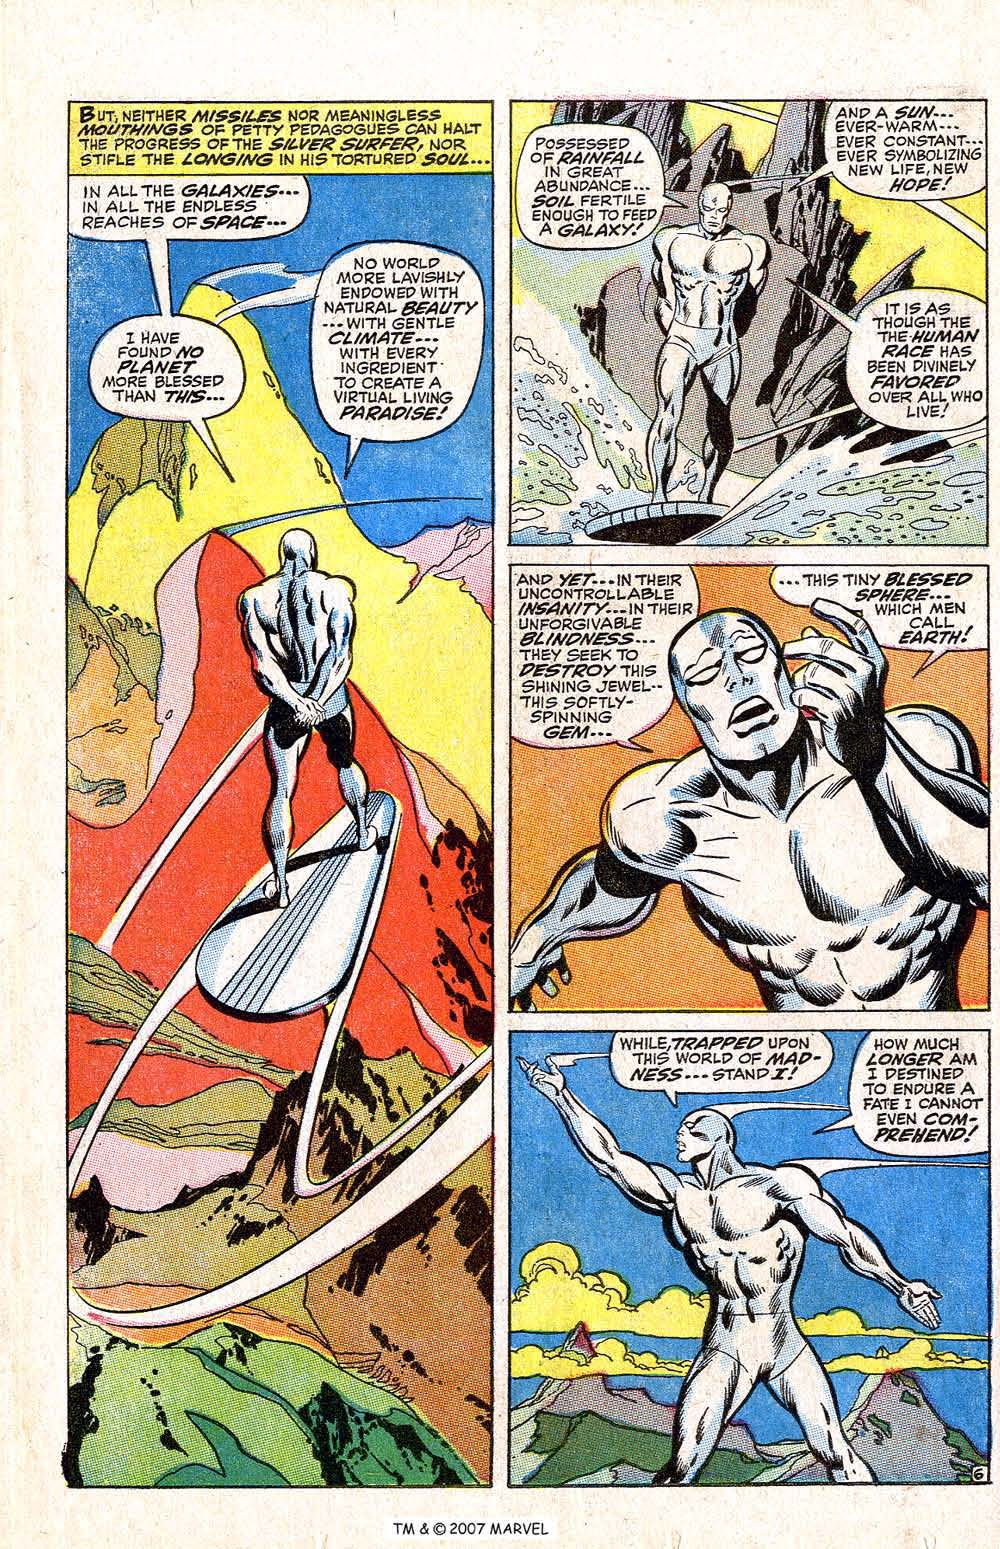Baloon: (306, 246, 482, 455), (511, 567, 708, 743), (68, 98, 495, 169), (808, 274, 994, 436), (514, 119, 677, 248), (815, 93, 991, 210), (765, 567, 984, 660), (847, 1034, 989, 1159), (87, 317, 244, 425), (70, 172, 312, 240), (608, 1036, 830, 1099)
Vignetta: (68, 100, 491, 1491), (511, 1026, 991, 1486), (506, 567, 991, 1012), (508, 98, 986, 548)
